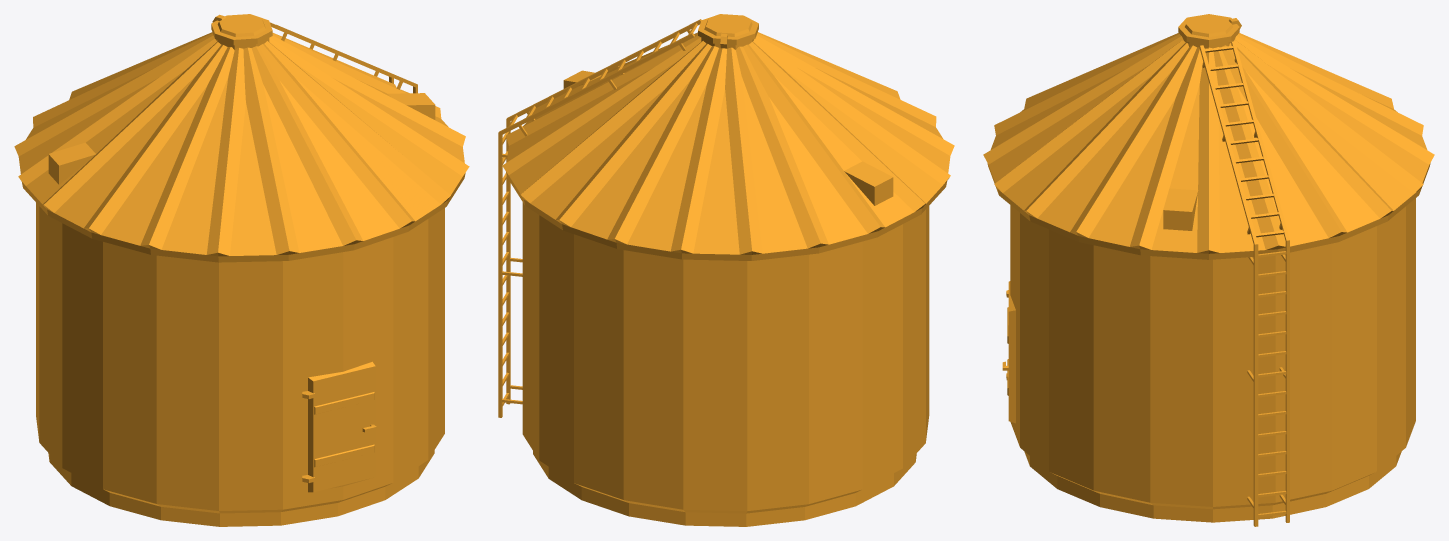
Rendered from SM_Bin_Grain_New.fbx.
3 views of the same model, side by side, from view 1: azimuth 30°, elevation 25°; view 2: azimuth 150°, elevation 25°; view 3: azimuth 270°, elevation 25° (orthographic).
Visible parts, largest first — view 1: bin-grain-new; view 2: bin-grain-new; view 3: bin-grain-new.
Part boxes in pixels (x1,y1,x2,y2): bin-grain-new: (14, 14, 469, 526); bin-grain-new: (498, 14, 954, 526); bin-grain-new: (983, 14, 1434, 526).
Size of the model in its own units: 6.17 by 6.26 by 6.15.
